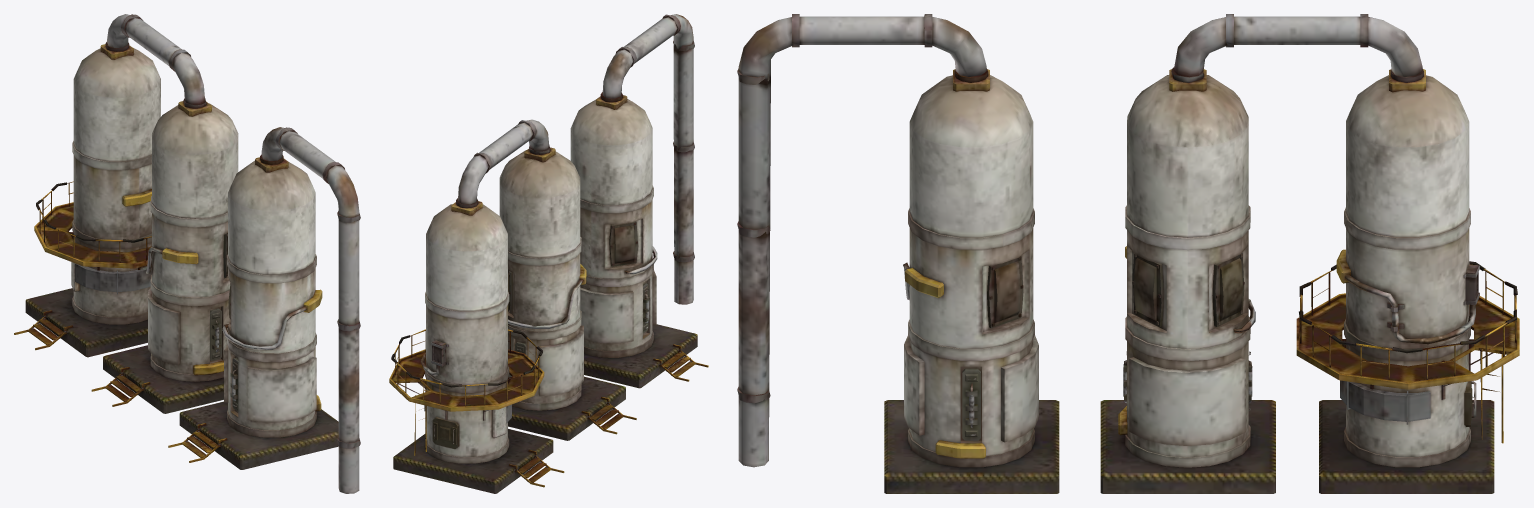
File: scene-oil-tank.glb
3 renders of one model, left to right at view 1: azimuth 30°, elevation 25°; view 2: azimuth 150°, elevation 25°; view 3: azimuth 270°, elevation 25°, orthographic. The views are drawn at different scales.
Parts seen in each view (by area): view 1: base; view 2: base; view 3: base.
Boxes of the visible parts, x1,y1,x2,y2 form: base: [14, 14, 360, 493]; base: [389, 14, 708, 493]; base: [737, 14, 1519, 493].
Size of the model in its own units: 2.06 by 3.77 by 6.
1 material, 1 textured.
